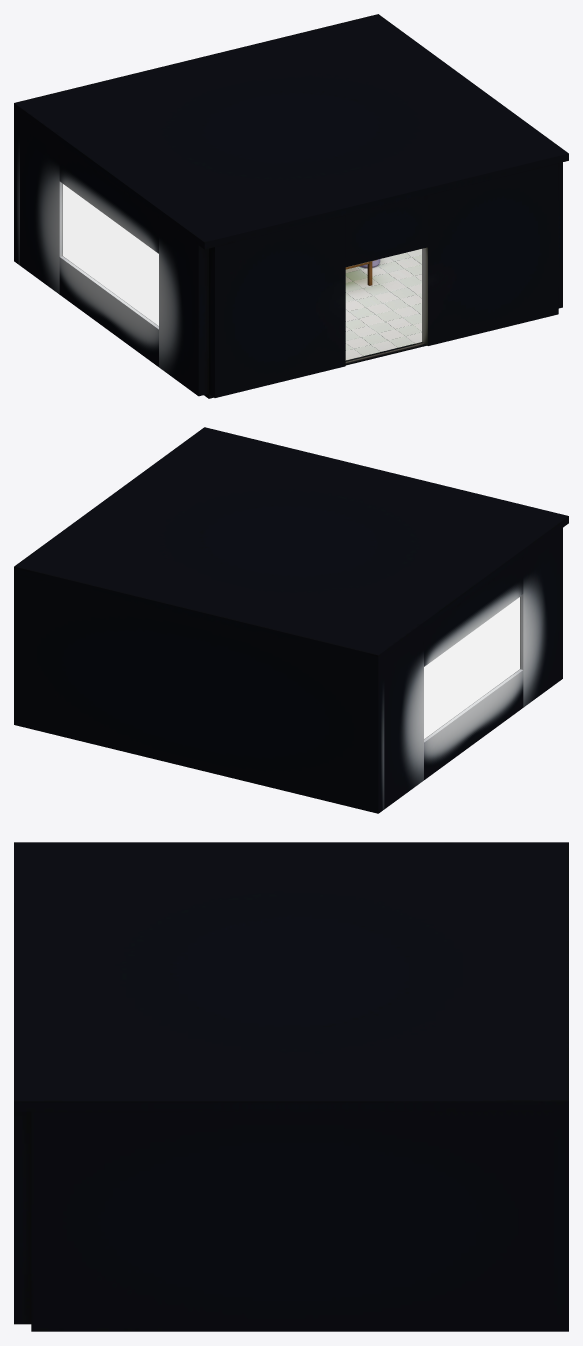
Rendered from room_stocks.glb.
3 renders of one model, top to bottom at view 1: azimuth 30°, elevation 25°; view 2: azimuth 150°, elevation 25°; view 3: azimuth 270°, elevation 25°, orthographic. The views are drawn at different scales.
Visible parts, largest first — view 1: baked_ceiling, baked_walls, baked_floor, window_glass; view 2: baked_walls, baked_ceiling, window_glass; view 3: baked_ceiling, baked_walls.
Part boxes in pixels (left/top/right/bottom): baked_ceiling: left=14, top=14, right=568, bottom=249; baked_walls: left=14, top=110, right=562, bottom=397; baked_floor: left=204, top=249, right=426, bottom=398; window_glass: left=63, top=184, right=158, bottom=325; baked_walls: left=14, top=528, right=562, bottom=813; baked_ceiling: left=14, top=427, right=568, bottom=662; window_glass: left=424, top=597, right=519, bottom=738; baked_ceiling: left=14, top=842, right=568, bottom=1111; baked_walls: left=14, top=1111, right=568, bottom=1331.
Size of the model in its own units: 10.6 by 4.54 by 9.6.
13 materials, 4 textured.
